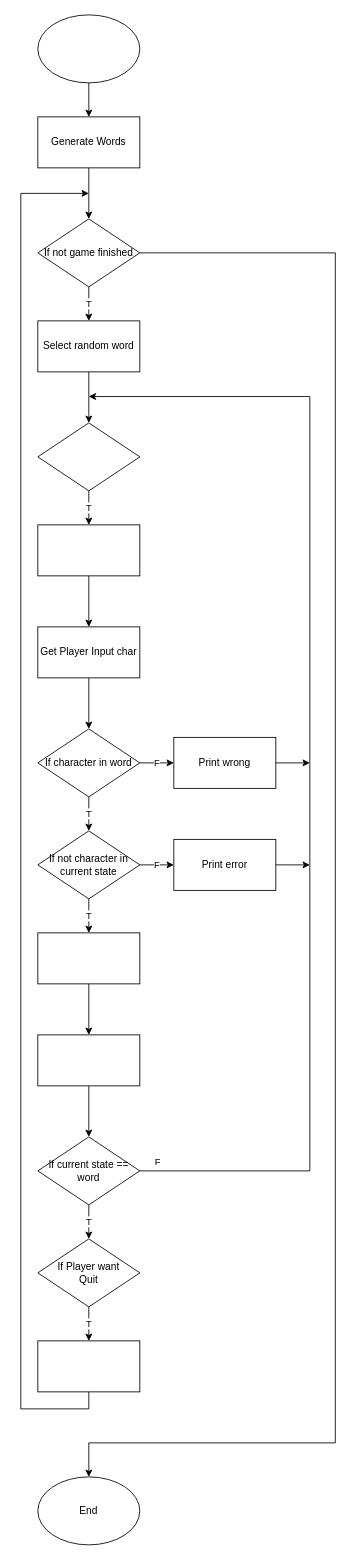
The diagram is 357 pixels wide and 1560 high, and some of its shapes have lost their labels. The centre of each missing label's shape, as x and y in pixels:
Change current state: point 88,958
Hangman: point 88,48
If not stage finished: point 88,456
Print correct: point 88,1060
Print current state: point 88,550
Set game finished true: point 88,1366
